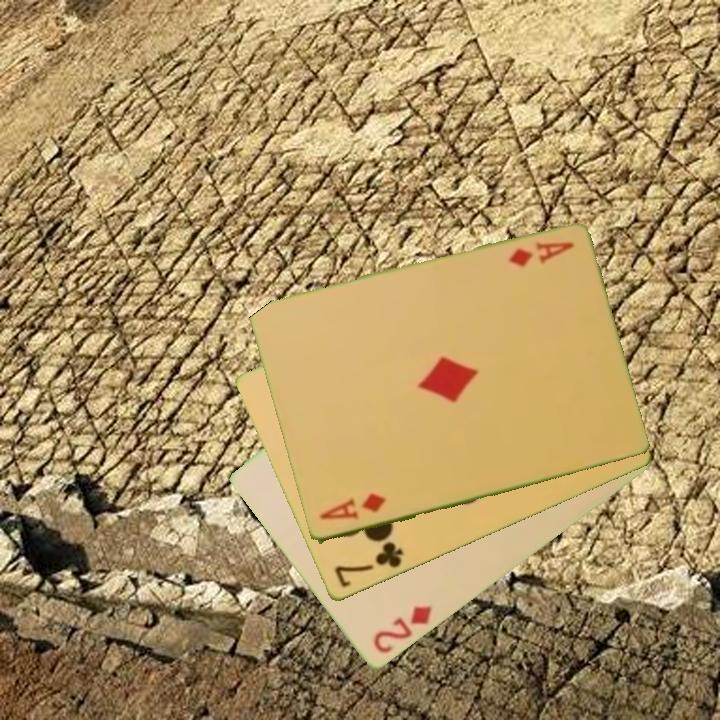2d: (369, 602, 435, 658)
7c: (330, 538, 406, 591)
Ad: (315, 490, 389, 524), (504, 238, 577, 271)
